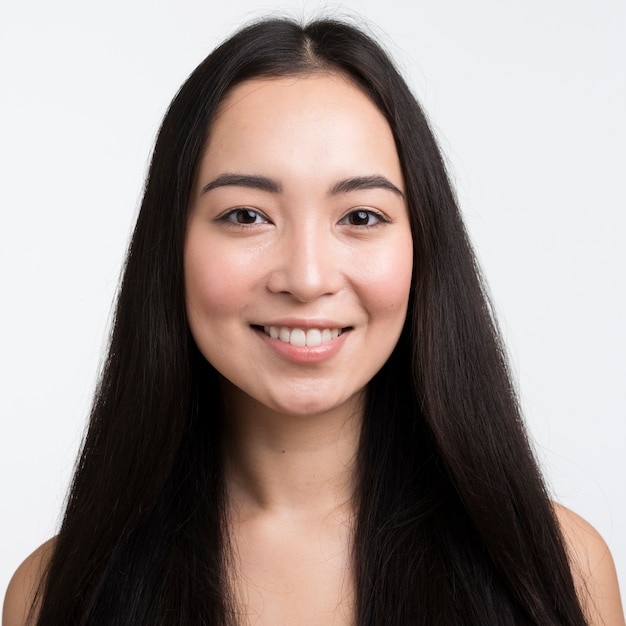teen: (133, 37, 460, 435)
